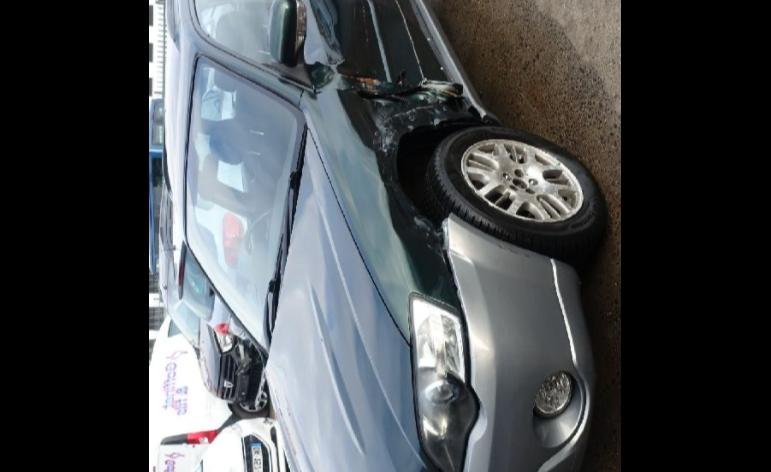Broken part: (298, 66, 490, 344)
Dent: (308, 0, 454, 88)
Missing part: (394, 0, 454, 84)
